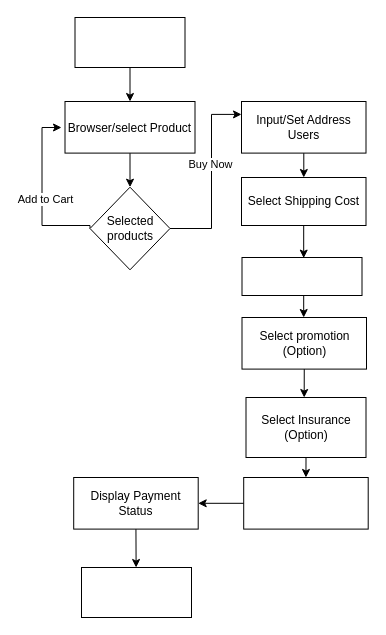
This 386x635 diagram has some shape labels left out. The box of each missing label's shape, as (x1, y1, x2, y2) in pixels:
End: (80, 566, 192, 618)
Input Note (option): (241, 256, 362, 296)
Select Payment Method (VA): (243, 476, 368, 529)
Stars: (74, 16, 185, 68)
